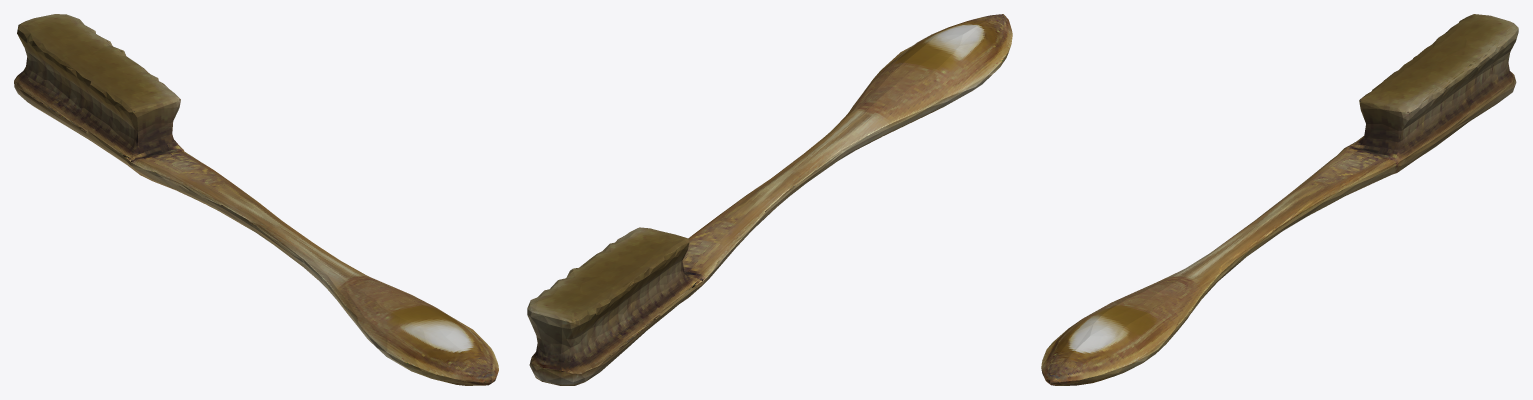
File: dwbj8wfc.glb
3 renders of one model, left to right at view 1: azimuth 30°, elevation 25°; view 2: azimuth 150°, elevation 25°; view 3: azimuth 330°, elevation 25°, orthographic.
Parts seen in each view (by area): view 1: world; view 2: world; view 3: world.
Part boxes in pixels (x1,y1,x2,y2): world: (14, 14, 498, 385); world: (527, 14, 1012, 385); world: (1041, 14, 1518, 385).
Size of the model in its own units: 0.1106 by 0.0868 by 0.9987.
1 material, 1 textured.
